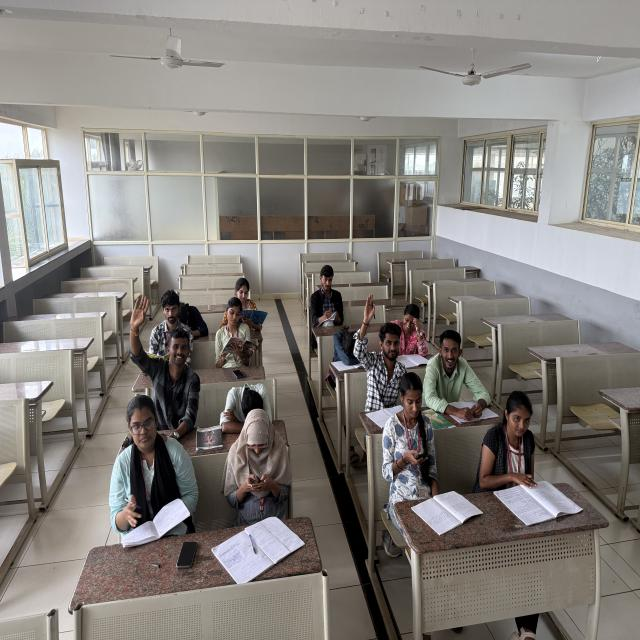Hand Rising: (124, 293, 200, 423), (383, 368, 440, 497), (351, 290, 405, 403)
Reading: (472, 387, 544, 499), (138, 288, 195, 365), (213, 296, 260, 368), (386, 299, 431, 363), (218, 276, 270, 329)
Sleeping: (217, 378, 277, 436), (328, 324, 367, 375), (174, 298, 210, 342)
Using Phone: (219, 406, 292, 516)
Writing: (105, 392, 198, 535), (308, 262, 344, 326)
